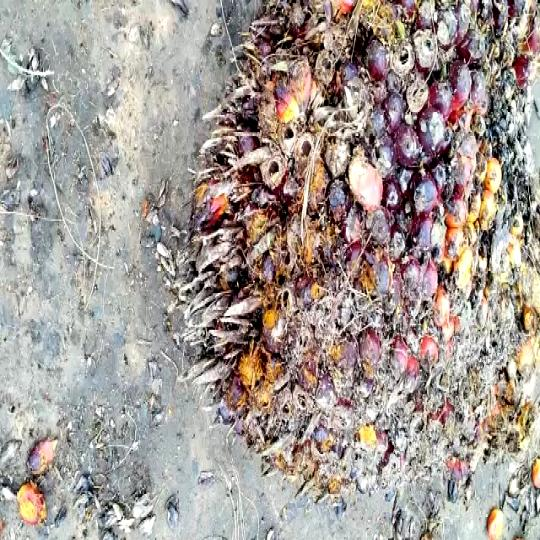masak: (175, 0, 540, 540)
